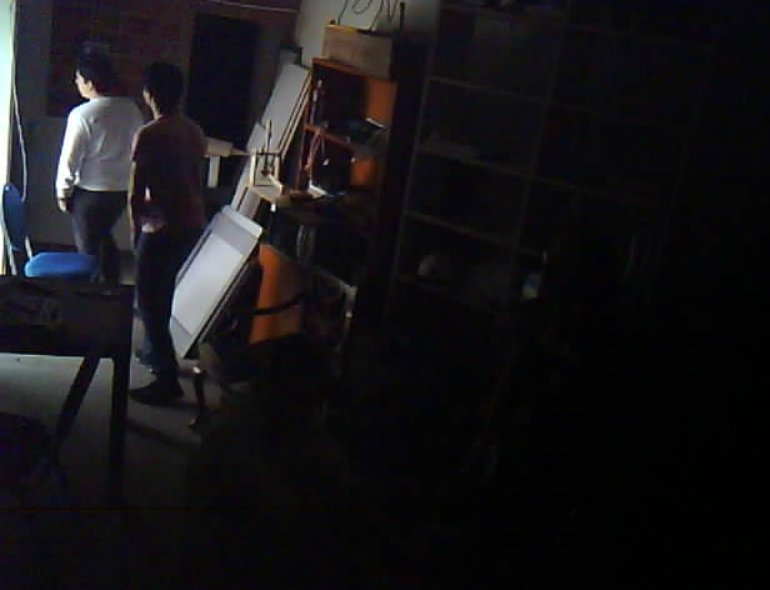person: (123, 57, 225, 423), (41, 32, 162, 300)
